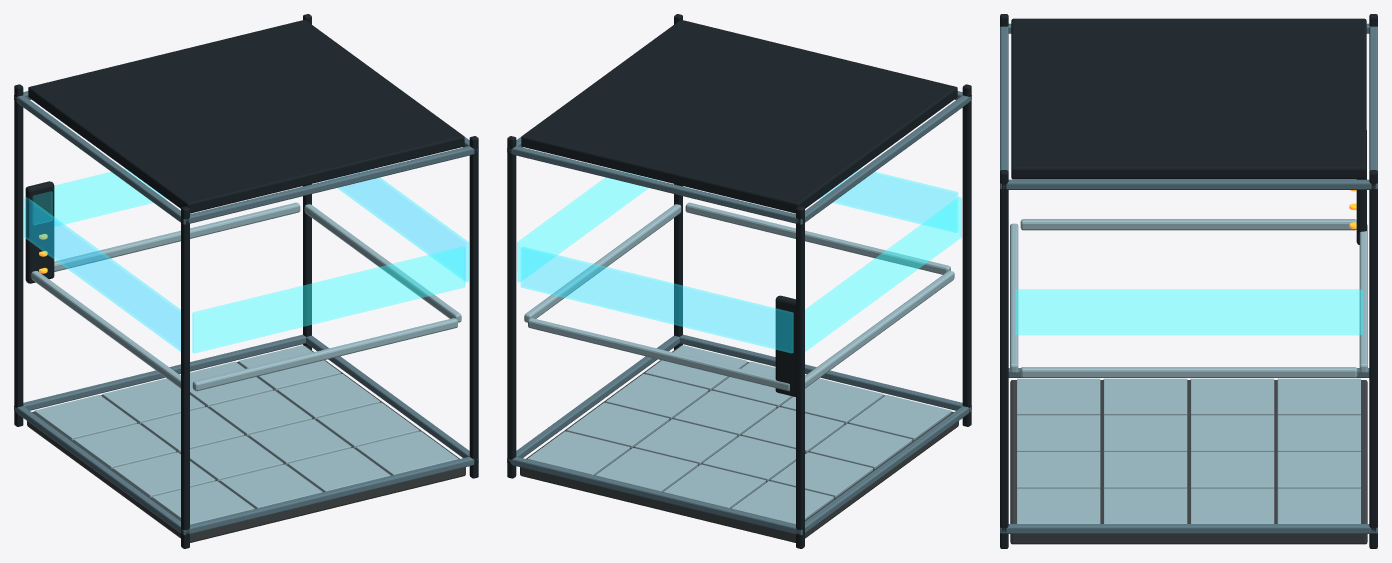
Rendered from 08_glass_2x2.glb.
3 views of the same model, side by side, from view 1: azimuth 30°, elevation 25°; view 2: azimuth 150°, elevation 25°; view 3: azimuth 270°, elevation 25° (orthographic). The views are drawn at different scales.
Visible parts, largest first — view 1: Ceiling_Frame, Glass_Band_North.003, Glass_Band_West.003, Glass_Band_East.003, Floor_Base.007, Glass_Band_South.003, Corner_Post_1_-1, Corner_Post_-1_1, Corner_Post_-1_-1, Handrail_North.007, Lower_Rail_North.007, Upper_Rail_North.007 (+25 smaller); view 2: Ceiling_Frame, Glass_Band_South.003, Glass_Band_West.003, Glass_Band_East.003, Floor_Base.007, Glass_Band_North.003, Corner_Post_1_1, Corner_Post_-1_-1, Corner_Post_-1_1, Lower_Rail_South.007, Upper_Rail_South.007, Handrail_South.007 (+25 smaller); view 3: Ceiling_Frame, Glass_Band_East.003, Floor_Base.007, Upper_Rail_East.007, Handrail_West.007, Lower_Rail_East.007, Handrail_East.007, Corner_Post_1_-1, Corner_Post_1_1, Floor_Plate_0_1.007, Floor_Plate_0_2.003, Floor_Plate_0_0.007 (+18 smaller).
Boxes of the visible parts, x1,y1,x2,y2 form: Ceiling_Frame: [28, 20, 464, 213]; Glass_Band_North.003: [192, 246, 464, 353]; Glass_Band_West.003: [24, 197, 180, 351]; Glass_Band_East.003: [327, 170, 468, 282]; Floor_Base.007: [27, 345, 465, 542]; Glass_Band_South.003: [54, 168, 166, 226]; Corner_Post_1_-1: [469, 136, 478, 478]; Corner_Post_-1_1: [14, 84, 23, 426]; Corner_Post_-1_-1: [181, 206, 189, 548]; Handrail_North.007: [192, 318, 457, 391]; Lower_Rail_North.007: [181, 456, 478, 535]; Upper_Rail_North.007: [183, 146, 478, 224]; Ceiling_Frame: [521, 20, 957, 213]; Glass_Band_South.003: [521, 246, 793, 353]; Glass_Band_West.003: [805, 197, 961, 351]; Glass_Band_East.003: [517, 170, 658, 282]; Floor_Base.007: [520, 345, 958, 542]; Glass_Band_North.003: [819, 168, 957, 232]; Corner_Post_1_1: [507, 136, 516, 478]; Corner_Post_-1_-1: [962, 84, 971, 426]; Corner_Post_-1_1: [796, 206, 804, 548]; Lower_Rail_South.007: [507, 456, 802, 535]; Upper_Rail_South.007: [507, 146, 802, 224]; Handrail_South.007: [528, 318, 789, 391]; Ceiling_Frame: [1011, 18, 1366, 179]; Glass_Band_East.003: [1015, 289, 1362, 334]; Floor_Base.007: [1010, 380, 1367, 544]; Upper_Rail_East.007: [1000, 179, 1377, 189]; Handrail_West.007: [1020, 219, 1356, 230]; Lower_Rail_East.007: [1000, 524, 1377, 533]; Handrail_East.007: [1020, 367, 1357, 377]; Corner_Post_1_-1: [1000, 170, 1008, 548]; Corner_Post_1_1: [1369, 170, 1377, 548]; Floor_Plate_0_1.007: [1103, 378, 1187, 415]; Floor_Plate_0_2.003: [1190, 378, 1274, 415]; Floor_Plate_0_0.007: [1017, 378, 1100, 415].
Size of the model in its own units: 2 by 2.2 by 2.
